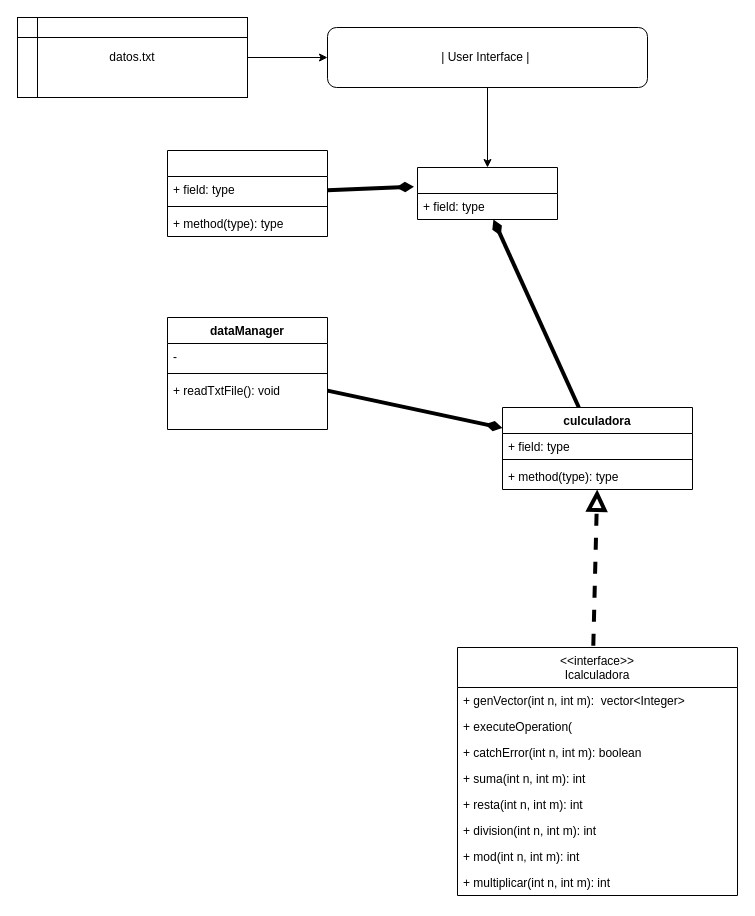
Some shapes in this 755 by 916 pixel diagram are drawn without their labels. Here are the shapes that lost their labels. From the top down, the box of each, then its label:
(166, 150, 328, 236): graphicUserInterface
(416, 166, 558, 220): app (main)
